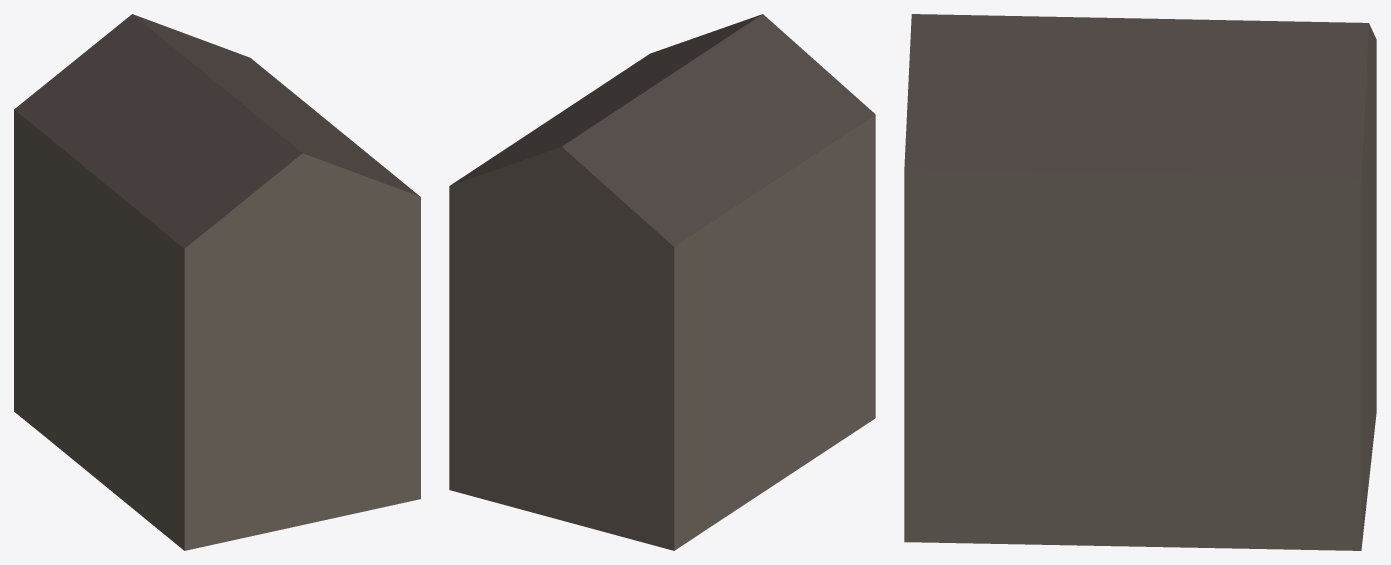
The picture shows the model from 3 angles, left to right: view 1: azimuth 30°, elevation 25°; view 2: azimuth 150°, elevation 25°; view 3: azimuth 270°, elevation 25°; orthographic projection. The views are drawn at different scales.
Visible parts, largest first — view 1: HP-w858824342; view 2: HP-w858824342; view 3: HP-w858824342.
Boxes of the visible parts, x1,y1,x2,y2 form: HP-w858824342: (14, 14, 420, 550); HP-w858824342: (449, 14, 875, 550); HP-w858824342: (904, 14, 1376, 550).
Size of the model in its own units: 7.64 by 11.08 by 10.33.
